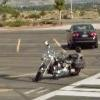Motorcycle: (29, 38, 92, 91)
